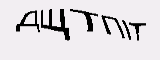І: (123, 17, 132, 43)
Д: (15, 9, 40, 33)
П: (100, 12, 123, 40)
Т: (70, 7, 100, 38), (129, 18, 146, 41)
Щ: (40, 8, 70, 41)
